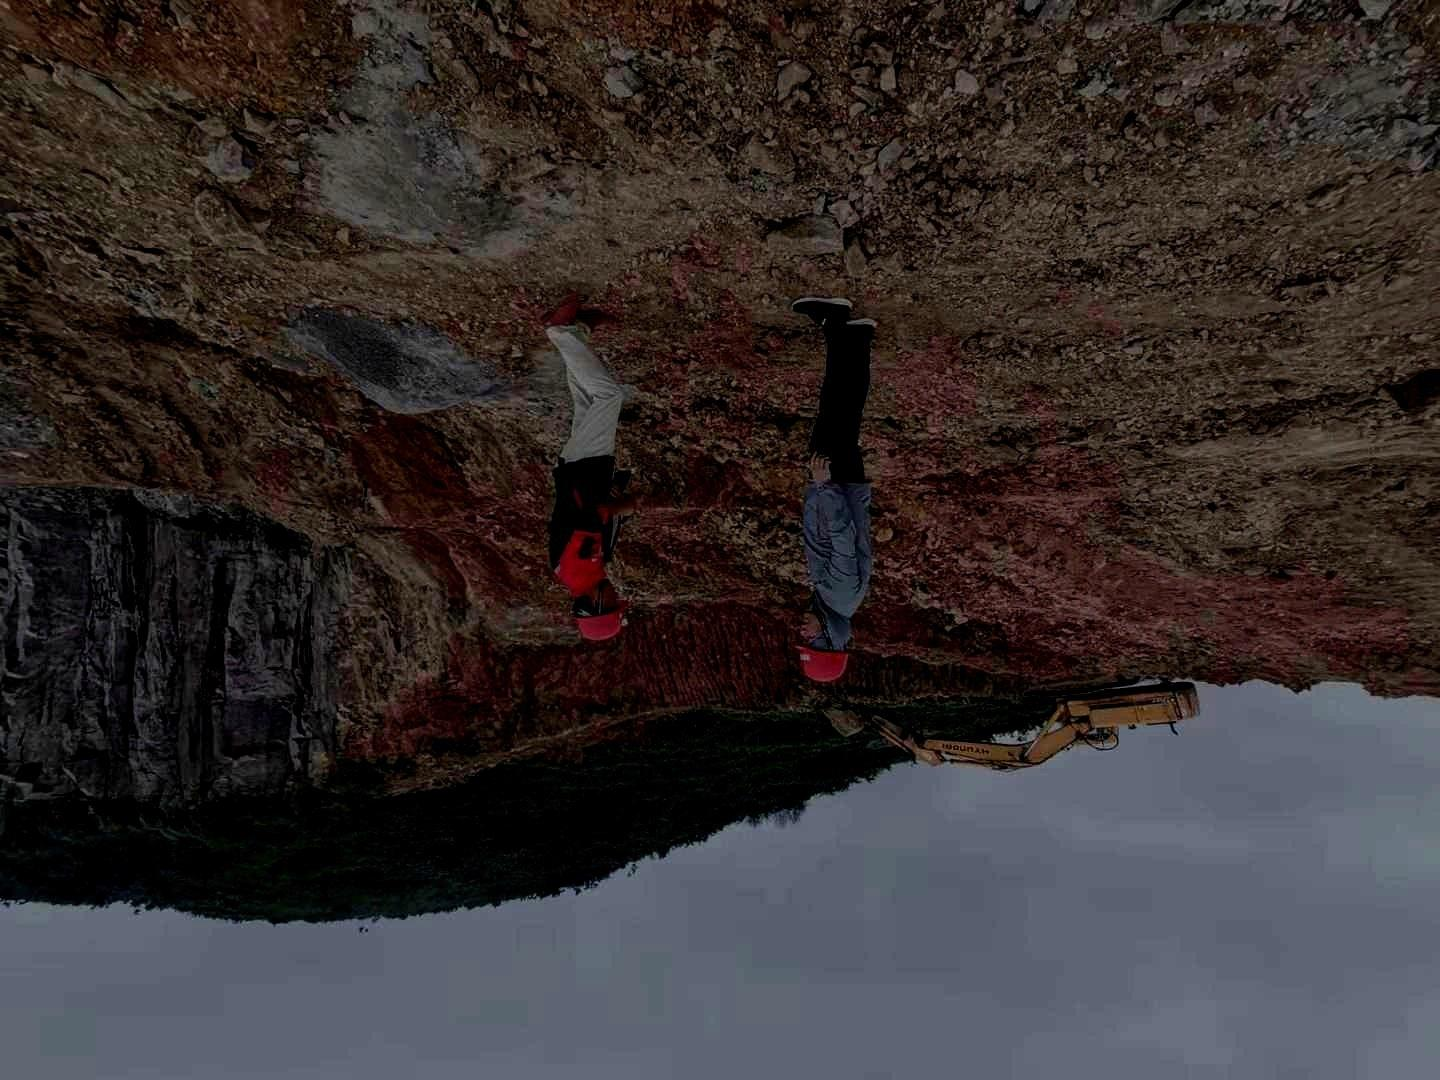helmet: (794, 610, 852, 682), (573, 577, 630, 640)
